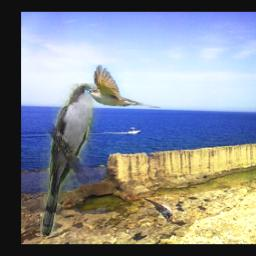Cuckoo: (41, 84, 102, 236), (85, 64, 163, 108)
Swallow: (135, 199, 174, 223)
